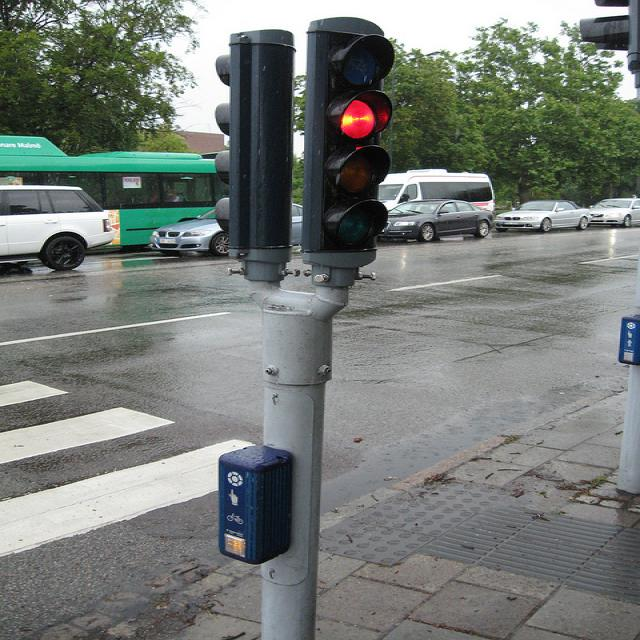Vehicle: (2, 133, 224, 274), (0, 181, 119, 275), (378, 198, 496, 242), (377, 175, 494, 213), (144, 215, 230, 253), (496, 200, 594, 232), (592, 198, 640, 225)
